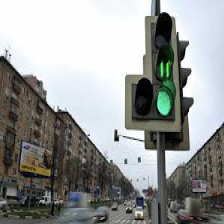semaforo: (124, 12, 181, 132)
